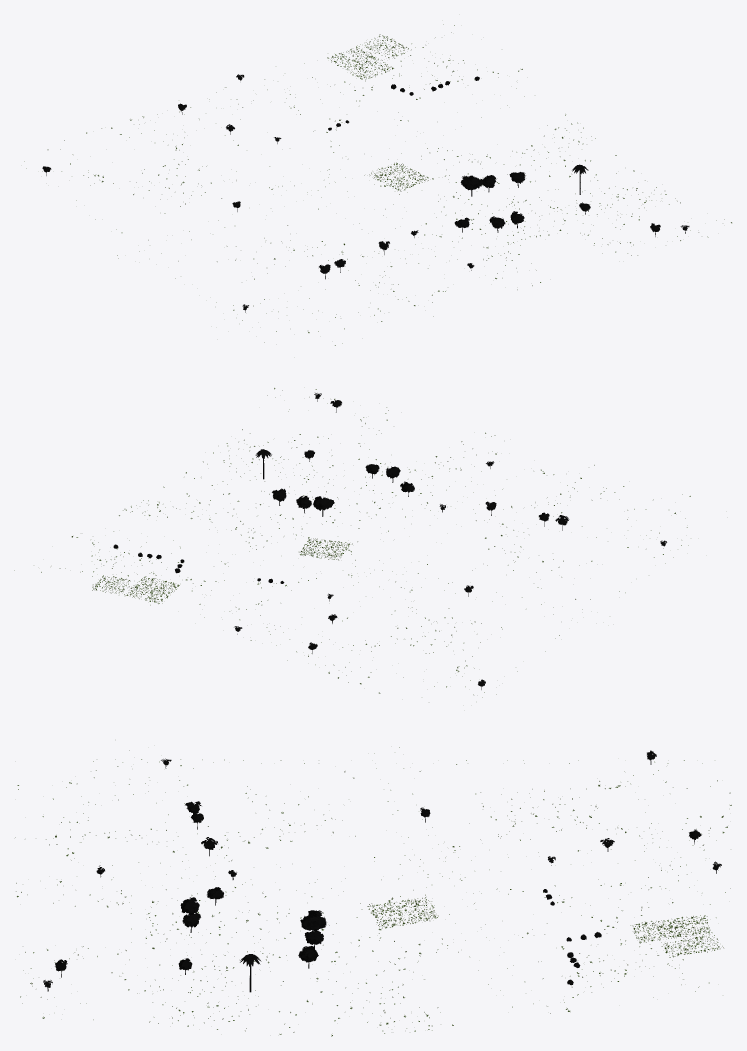
The model's file is Vegetation.fbx.
3 renders of one model, top to bottom at view 1: azimuth 30°, elevation 25°; view 2: azimuth 150°, elevation 25°; view 3: azimuth 270°, elevation 25°, orthographic. The views are drawn at different scales.
Parts seen in each view (by area): view 1: EXPORT_OT_Vegetation_SA_M01_02_S01_02; view 2: EXPORT_OT_Vegetation_SA_M01_02_S01_02; view 3: EXPORT_OT_Vegetation_SA_M01_02_S01_02.
Part boxes in pixels (left/top/right/bottom): EXPORT_OT_Vegetation_SA_M01_02_S01_02: left=24, top=24, right=731, bottom=345; EXPORT_OT_Vegetation_SA_M01_02_S01_02: left=14, top=388, right=690, bottom=697; EXPORT_OT_Vegetation_SA_M01_02_S01_02: left=15, top=747, right=731, bottom=1036.
Size of the model in its own units: 250 by 17.19 by 251.
